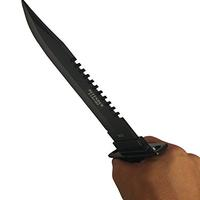knife: (19, 1, 181, 186)
